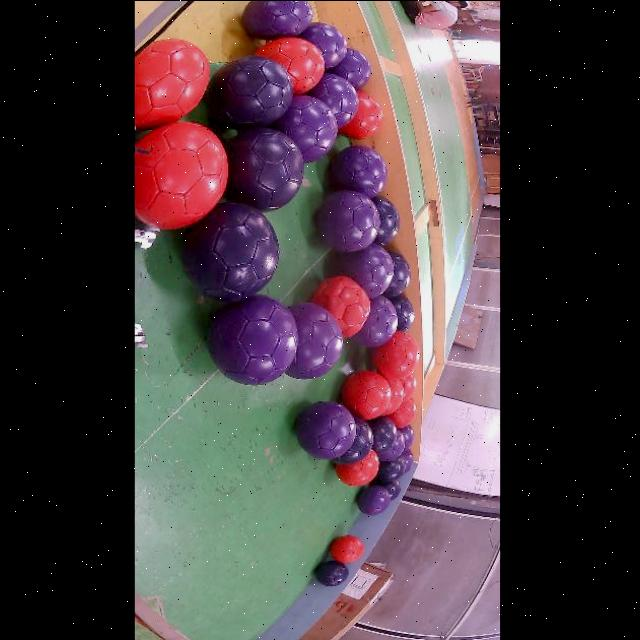B: (182, 201, 280, 301), (226, 127, 306, 211), (206, 55, 294, 127), (333, 415, 374, 464), (373, 195, 401, 244), (383, 249, 411, 297), (368, 414, 398, 454), (391, 294, 416, 330), (316, 560, 350, 586), (377, 455, 406, 482), (372, 479, 402, 499)
P: (208, 294, 298, 385), (272, 94, 339, 163), (286, 301, 344, 379), (317, 189, 380, 252), (297, 400, 356, 459), (340, 242, 396, 297), (331, 145, 388, 197), (242, 0, 314, 40), (307, 73, 360, 127), (298, 22, 349, 68), (354, 295, 398, 347), (326, 47, 373, 88), (358, 484, 391, 515), (379, 428, 406, 460), (400, 424, 416, 450), (402, 449, 415, 471)
R: (137, 121, 228, 228), (135, 38, 210, 129), (257, 36, 326, 93), (312, 275, 372, 337), (342, 369, 392, 419), (373, 330, 421, 379), (339, 90, 384, 139), (336, 450, 380, 485), (331, 535, 365, 562), (388, 398, 417, 427), (384, 378, 405, 414), (401, 372, 417, 400)
